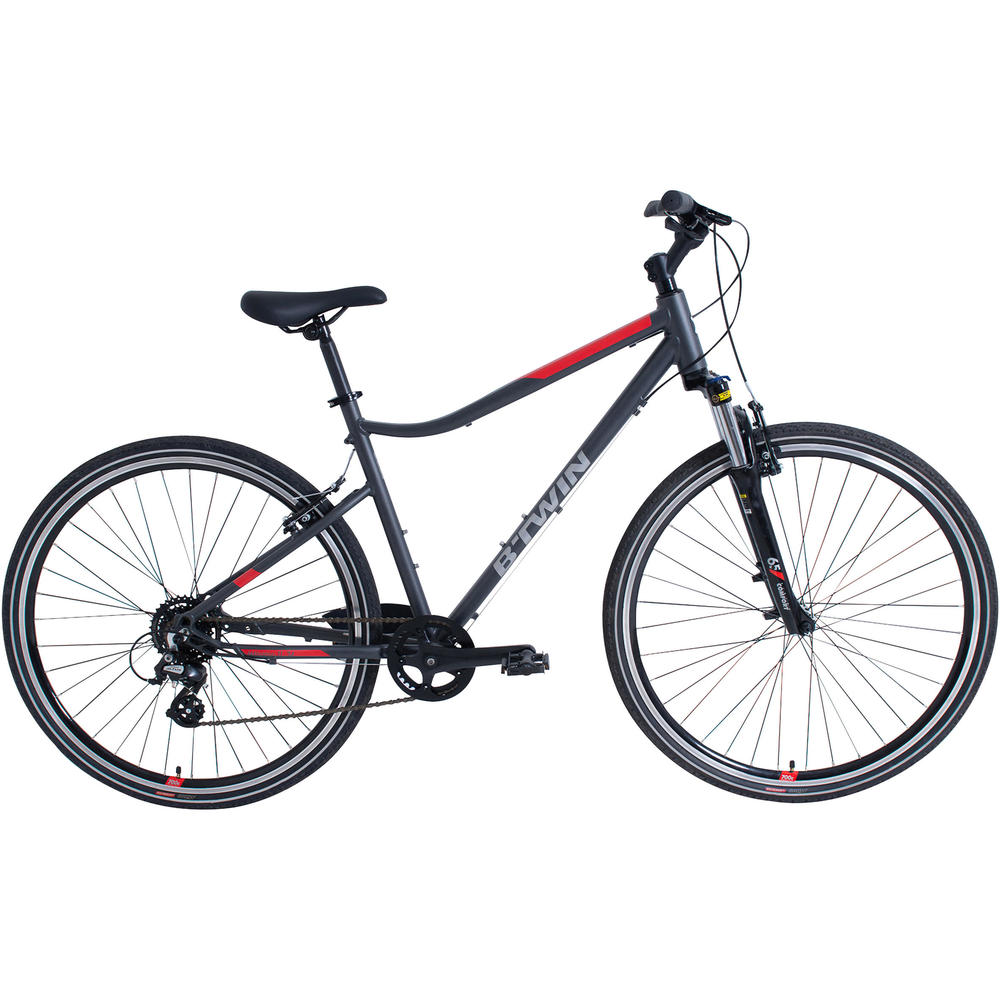UrbanBike: (236, 467, 379, 627)
